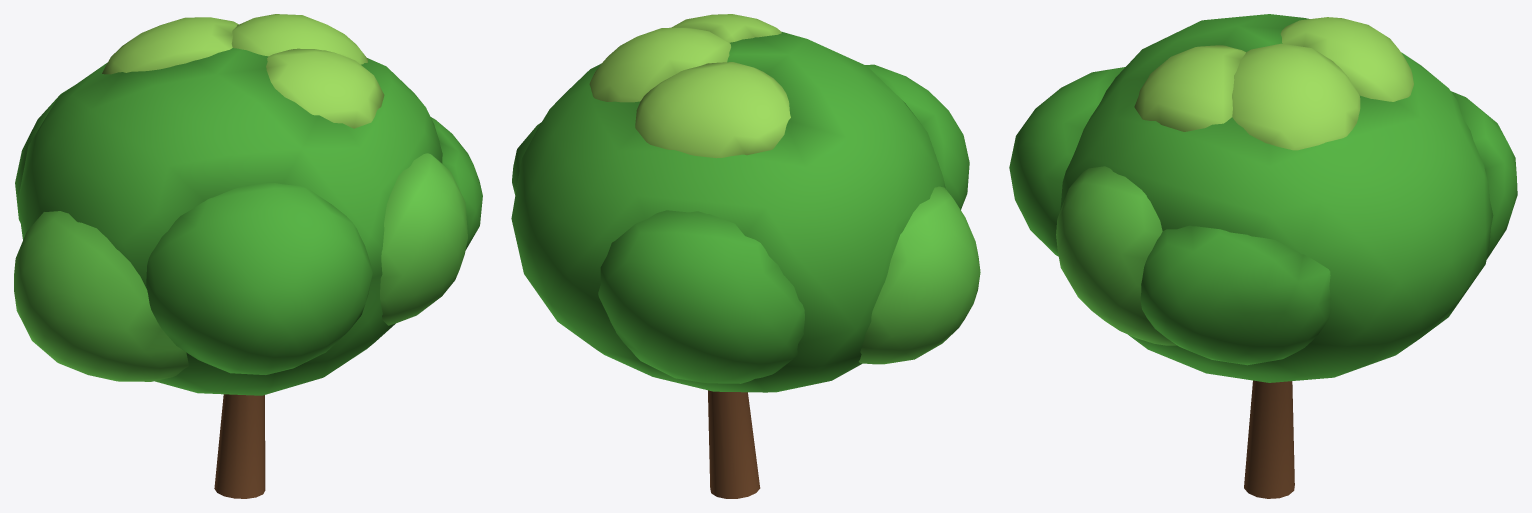
File: vl_tree1.glb
3 renders of one model, left to right at view 1: azimuth 30°, elevation 25°; view 2: azimuth 150°, elevation 25°; view 3: azimuth 270°, elevation 25°, orthographic. The views are drawn at different scales.
Visible parts, largest first — view 1: tree; view 2: tree; view 3: tree.
Boxes of the visible parts, x1,y1,x2,y2 form: tree: (14, 14, 482, 498); tree: (511, 14, 980, 498); tree: (1009, 14, 1517, 498).
Size of the model in its own units: 4.79 by 4.68 by 4.72.
